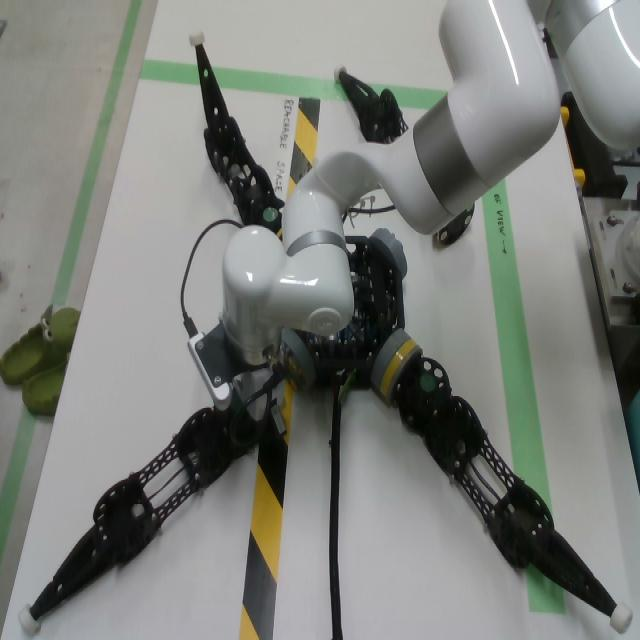body: (294, 236, 405, 388)
body_connector: (369, 329, 410, 389), (281, 328, 317, 392), (369, 228, 408, 281)
gripper: (233, 368, 287, 460)
leg: (379, 339, 634, 635), (17, 389, 266, 636), (189, 32, 286, 241), (333, 63, 408, 145)
leg_connector: (380, 340, 422, 401), (435, 204, 475, 247)
leg_marker: (420, 375, 435, 392), (263, 207, 278, 221)
